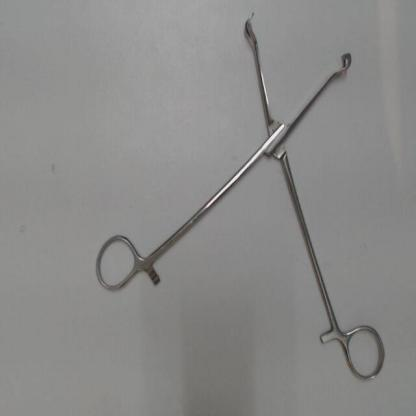8 Babcock Tissue Forceps: (92, 7, 390, 389)
